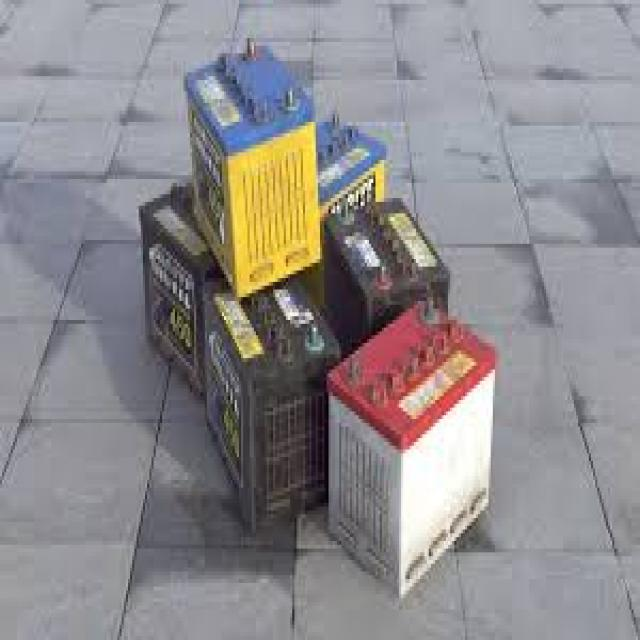non-organic waste: (329, 291, 499, 600), (198, 272, 344, 534), (182, 37, 322, 299), (322, 196, 451, 349), (138, 178, 220, 408)
